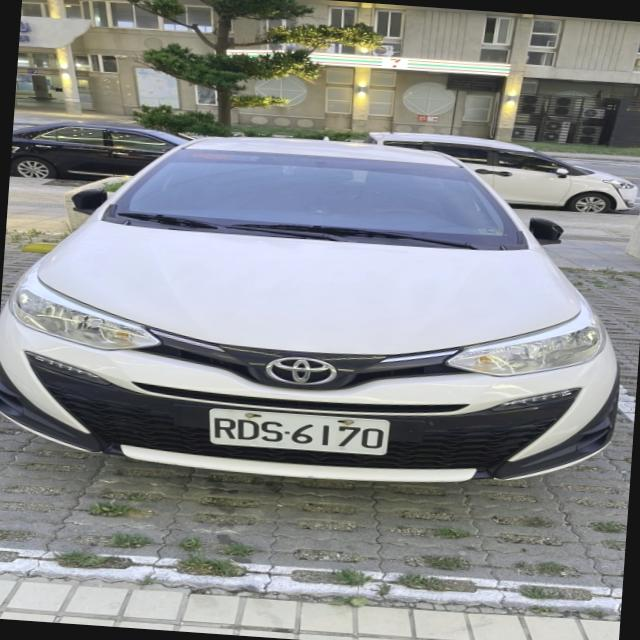license plate: (209, 408, 389, 455)
